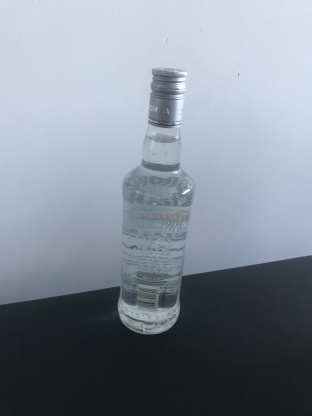nakretka: (146, 66, 188, 128)
